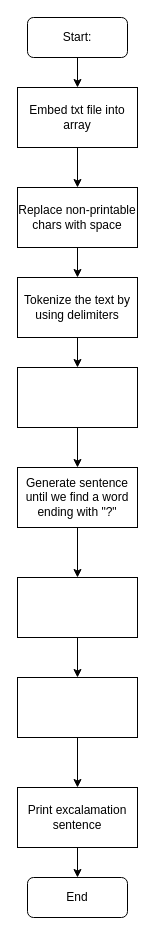
This 155x935 diagram has some shape labels left out. The box of each missing label's shape, as (x1, y1, x2, y2) in pixels:
Generate sentence until we find a word ending with "!": (16, 676, 138, 738)
Print question sentence: (16, 576, 138, 638)
Seed random number generator: (16, 366, 138, 428)
